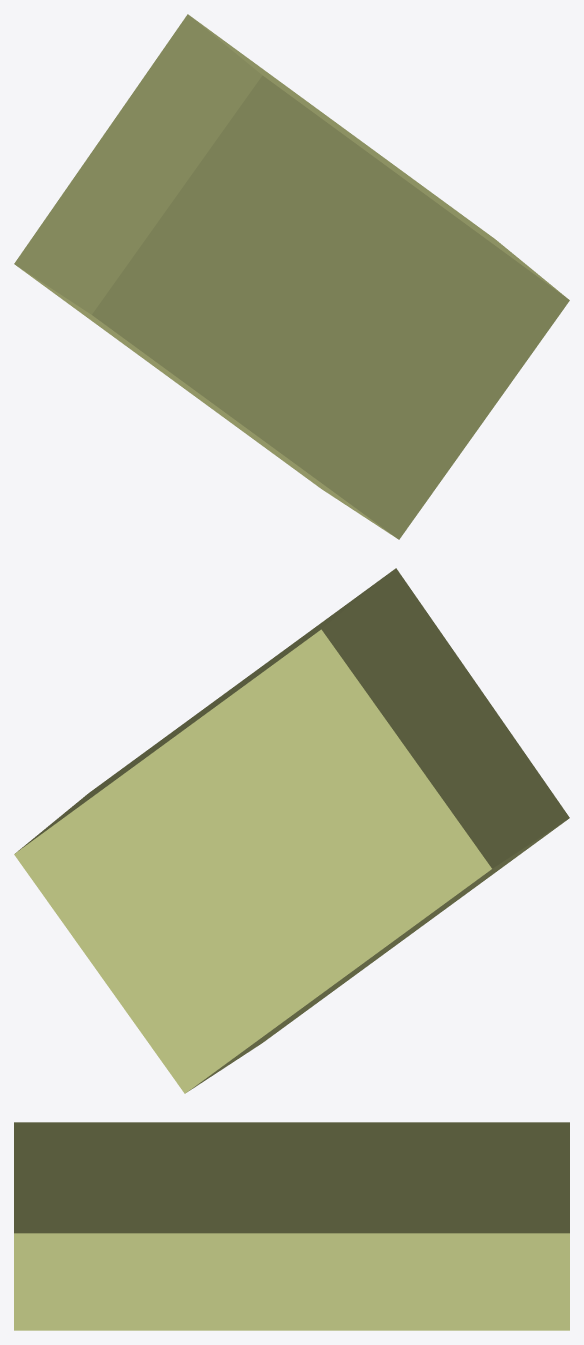
The picture shows the model from 3 angles, top to bottom: view 1: azimuth 30°, elevation 25°; view 2: azimuth 150°, elevation 25°; view 3: azimuth 270°, elevation 25°; orthographic projection. The views are drawn at different scales.
Visible parts, largest first — view 1: 0_2_3_2_2_0_2_1_3_0_3; view 2: 0_2_3_2_2_0_2_1_3_0_3; view 3: 0_2_3_2_2_0_2_1_3_0_3.
Part boxes in pixels (x1,y1,x2,y2): 0_2_3_2_2_0_2_1_3_0_3: (14,14,569,539); 0_2_3_2_2_0_2_1_3_0_3: (14,568,569,1093); 0_2_3_2_2_0_2_1_3_0_3: (14,1122,569,1330).
Bounding box in the file's own units: 2.8 × 2.99 × 6.
